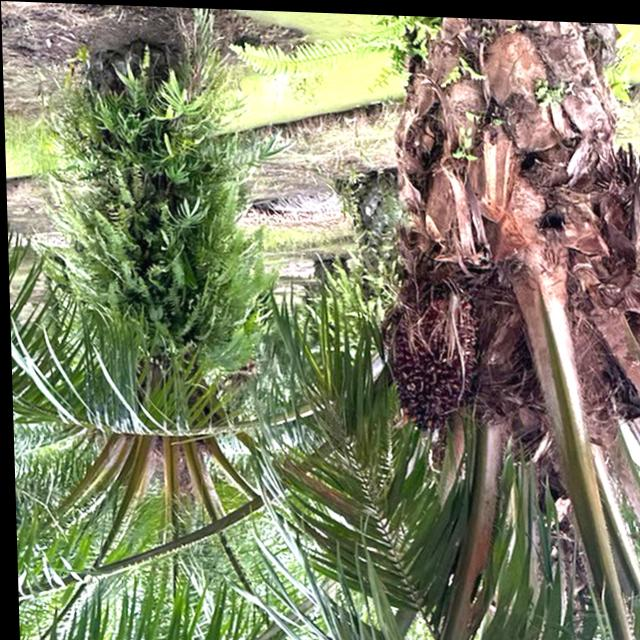ripe: (365, 262, 475, 441)
